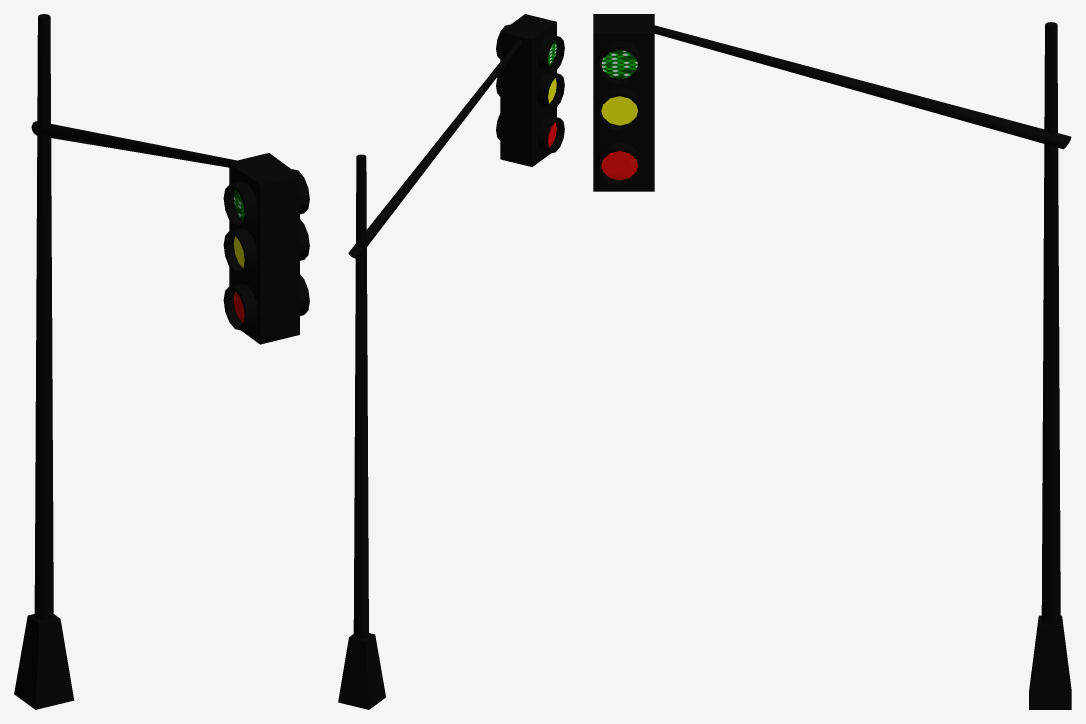
File: traffic light.FBX
3 renders of one model, left to right at view 1: azimuth 30°, elevation 25°; view 2: azimuth 150°, elevation 25°; view 3: azimuth 270°, elevation 25°, orthographic. The views are drawn at different scales.
Visible parts, largest first — view 1: Cylinder001; view 2: Cylinder001; view 3: Cylinder001.
Part boxes in pixels (<box>): Cylinder001: <box>14,14,309,709</box>; Cylinder001: <box>338,14,564,709</box>; Cylinder001: <box>593,14,1071,709</box>.
Bounding box in the file's own units: 5.86 × 60.33 × 38.48.
